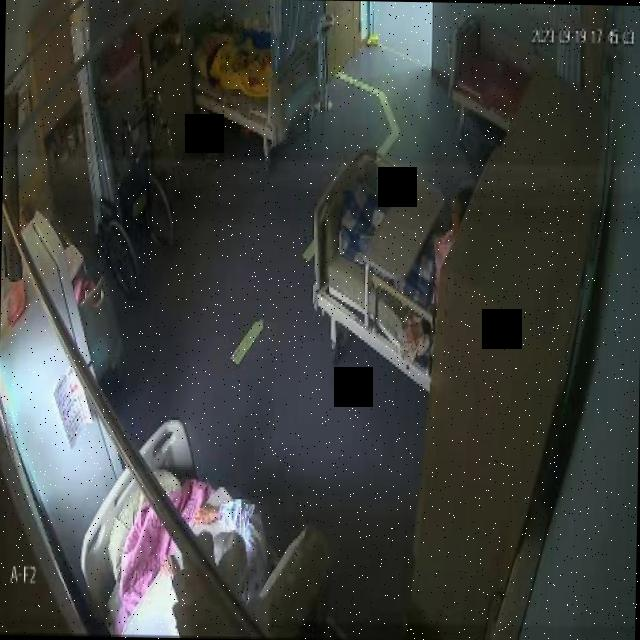bed: (80, 418, 316, 640), (310, 145, 447, 390), (190, 16, 319, 144), (438, 13, 530, 120)
